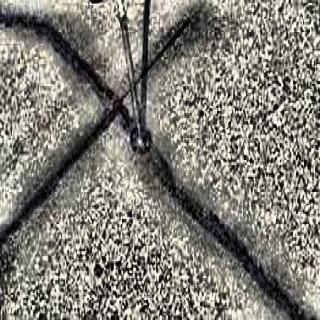crack: (0, 8, 195, 258)
